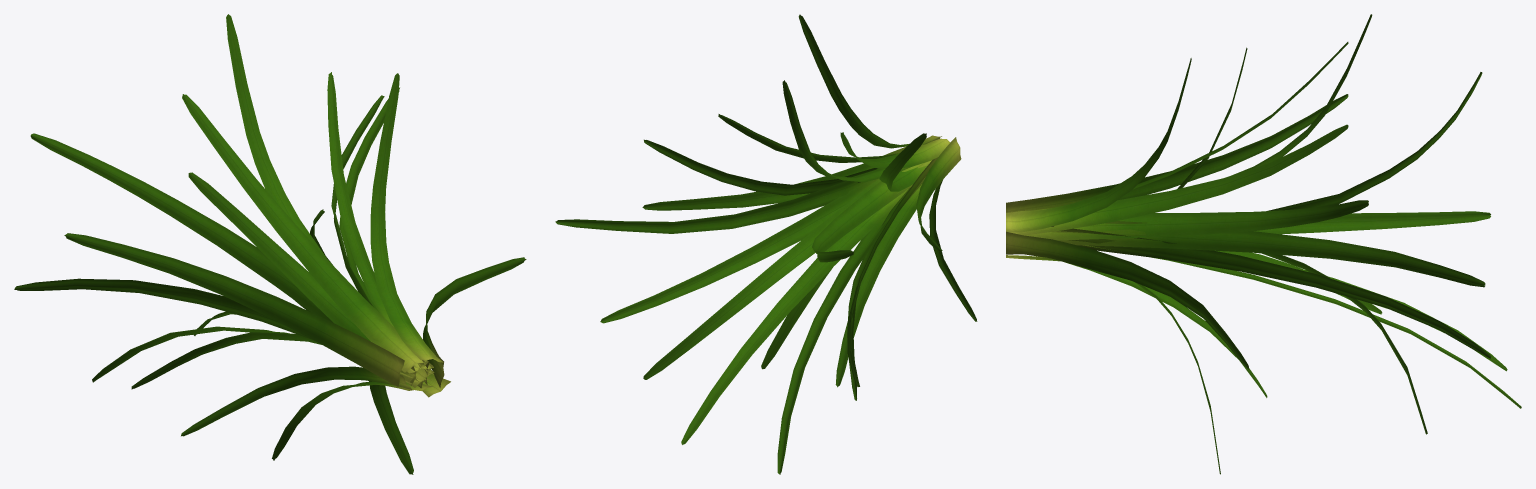
The model's file is plant_1.gltf.
3 renders of one model, left to right at view 1: azimuth 30°, elevation 25°; view 2: azimuth 150°, elevation 25°; view 3: azimuth 270°, elevation 25°, orthographic. The views are drawn at different scales.
Parts seen in each view (by area): view 1: plant_1; view 2: plant_1; view 3: plant_1.
Part boxes in pixels (x1=…): plant_1: x1=14, y1=14, x2=526, y2=474; plant_1: x1=555, y1=14, x2=977, y2=474; plant_1: x1=1006, y1=14, x2=1521, y2=474.
Size of the model in its own units: 11.55 by 11.53 by 13.1.
Materials: 1 (1 with a texture image).
